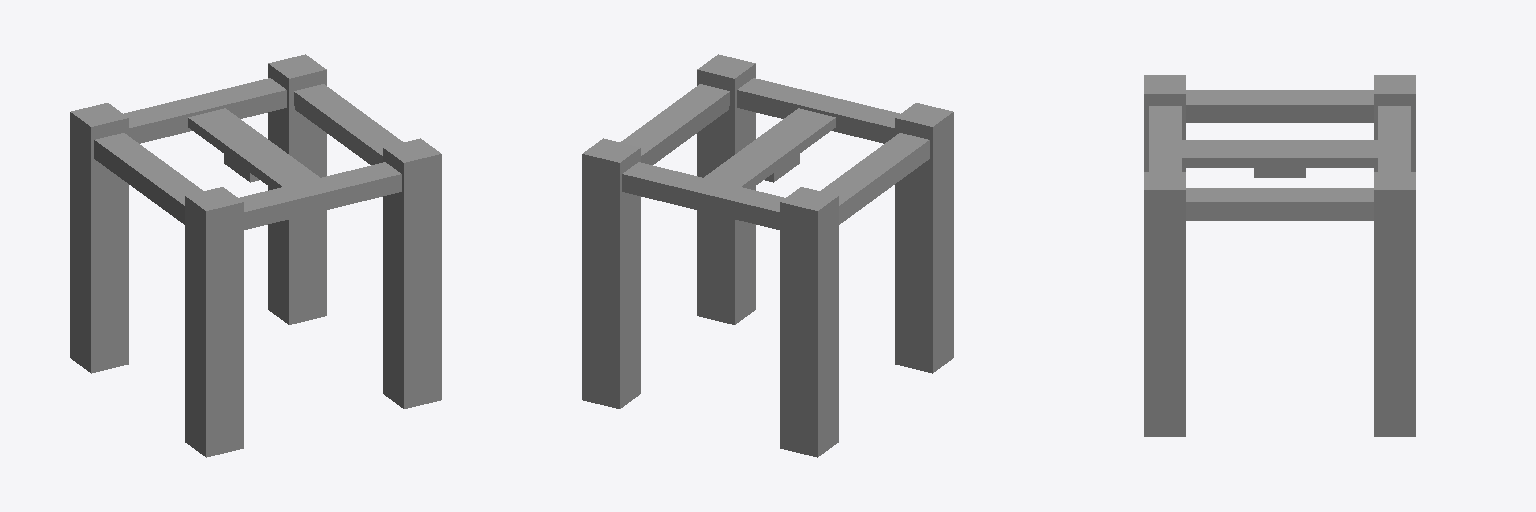
File: TruckCrane.obj
3 renders of one model, left to right at view 1: azimuth 30°, elevation 25°; view 2: azimuth 150°, elevation 25°; view 3: azimuth 270°, elevation 25°, orthographic.
Parts seen in each view (by area): view 1: TruckCrane_Cube.001; view 2: TruckCrane_Cube.001; view 3: TruckCrane_Cube.001.
Part boxes in pixels (x1,y1,x2,y2): TruckCrane_Cube.001: (70, 54, 441, 457); TruckCrane_Cube.001: (582, 54, 953, 457); TruckCrane_Cube.001: (1144, 75, 1415, 436).
Bounding box in the file's own units: 15 × 15 × 15.